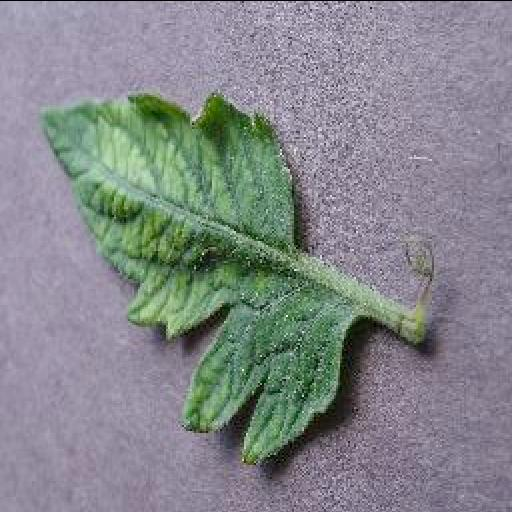Mosaic Virus: (32, 90, 350, 462)
